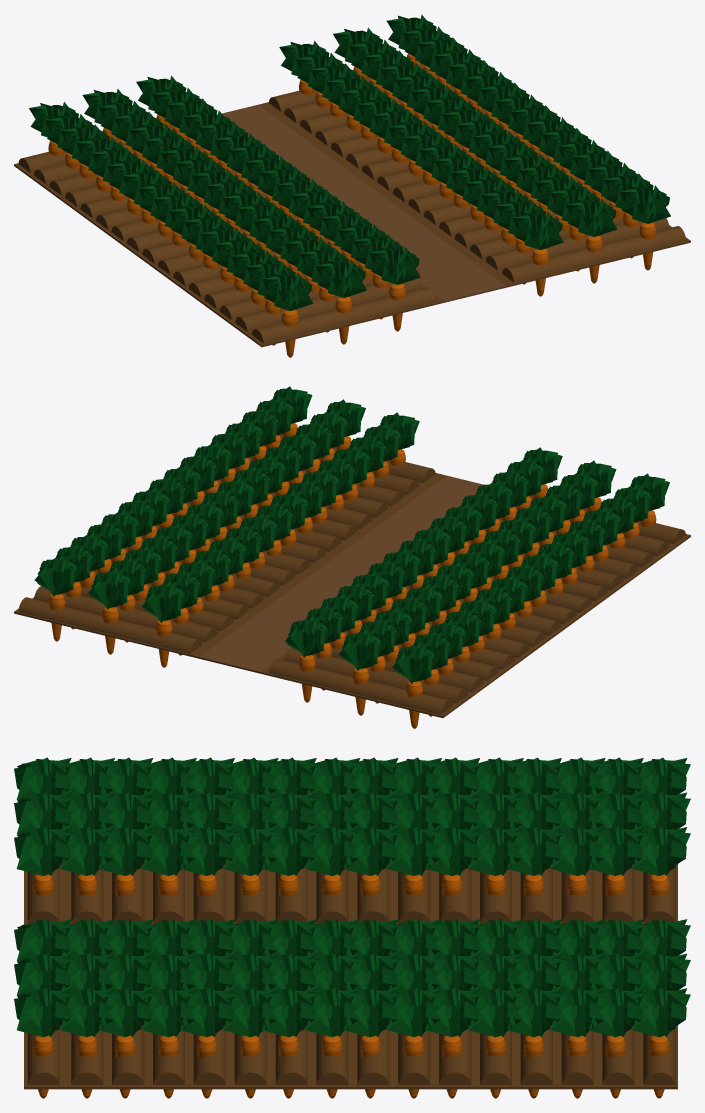
File: CarrotsColors.fbx
3 renders of one model, top to bottom at view 1: azimuth 30°, elevation 25°; view 2: azimuth 150°, elevation 25°; view 3: azimuth 270°, elevation 25°, orthographic. The views are drawn at different scales.
Parts seen in each view (by area): view 1: Plane, Plane.001, Sphere.050, Sphere.002, Sphere.048, Sphere.001, Sphere, Sphere.049, Sphere.093, Sphere.051, Sphere.004, Sphere.052 (+86 smaller); view 2: Plane, Plane.001, Sphere.047, Sphere.045, Sphere.046, Sphere.095, Sphere.094, Sphere.093, Sphere, Sphere.048, Sphere.044, Sphere.043 (+86 smaller); view 3: Plane, Plane.001, Sphere.002, Sphere.050, Sphere.047, Sphere.095, Sphere.038, Sphere.014, Sphere.026, Sphere.008, Sphere.032, Sphere.020 (+86 smaller).
Part boxes in pixels (left/top/right/bottom): Plane: left=18, top=64, right=686, bottom=343; Plane.001: left=14, top=102, right=690, bottom=347; Sphere.050: left=369, top=246, right=420, bottom=331; Sphere.002: left=620, top=185, right=670, bottom=270; Sphere.048: left=262, top=272, right=313, bottom=357; Sphere.001: left=566, top=198, right=617, bottom=283; Sphere: left=512, top=211, right=563, bottom=296; Sphere.049: left=316, top=259, right=366, bottom=344; Sphere.093: left=29, top=102, right=78, bottom=156; Sphere.051: left=246, top=261, right=295, bottom=345; Sphere.004: left=550, top=186, right=599, bottom=271; Sphere.052: left=299, top=247, right=349, bottom=332; Plane: left=18, top=434, right=685, bottom=714; Plane.001: left=14, top=473, right=690, bottom=717; Sphere.047: left=34, top=557, right=77, bottom=641; Sphere.045: left=142, top=583, right=184, bottom=667; Sphere.046: left=88, top=570, right=131, bottom=654; Sphere.095: left=285, top=618, right=327, bottom=702; Sphere.094: left=338, top=631, right=381, bottom=715; Sphere.093: left=392, top=644, right=435, bottom=728; Sphere: left=380, top=412, right=419, bottom=465; Sphere.048: left=630, top=473, right=669, bottom=526; Sphere.044: left=56, top=545, right=94, bottom=629; Sphere.043: left=110, top=558, right=148, bottom=642; Plane: left=27, top=864, right=675, bottom=1084; Plane.001: left=24, top=864, right=677, bottom=1089; Sphere.002: left=14, top=988, right=74, bottom=1098; Sphere.050: left=14, top=826, right=74, bottom=894; Sphere.047: left=632, top=988, right=690, bottom=1098; Sphere.095: left=632, top=826, right=690, bottom=894; Sphere.038: left=507, top=988, right=565, bottom=1098; Sphere.014: left=180, top=988, right=238, bottom=1098; Sphere.026: left=344, top=988, right=401, bottom=1098; Sphere.008: left=98, top=988, right=156, bottom=1098; Sphere.032: left=425, top=988, right=483, bottom=1098; Sphere.020: left=262, top=988, right=319, bottom=1098.
Size of the model in its own units: 2400 by 432 by 2485.
